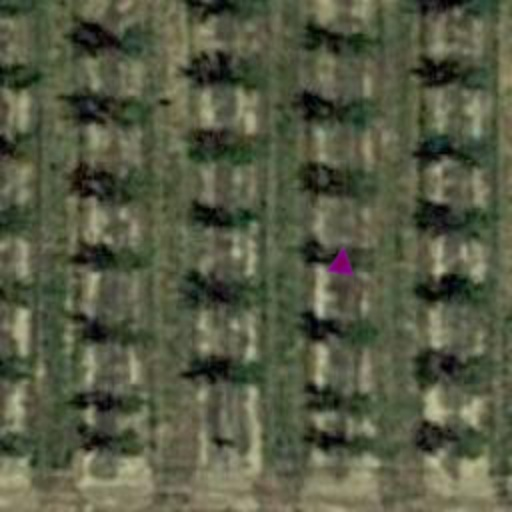triangle: (326, 244, 358, 276)
